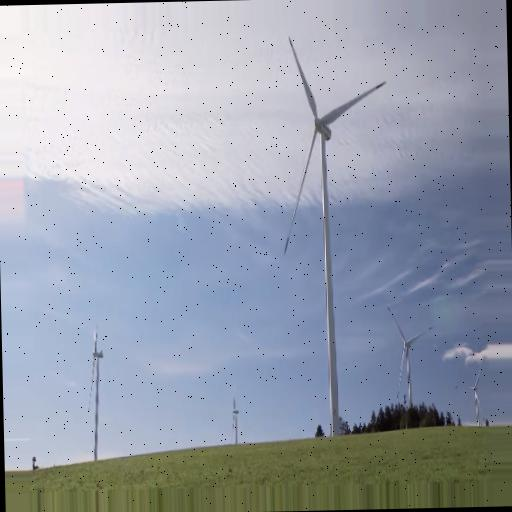wind turbine: (284, 36, 387, 436), (385, 305, 437, 413), (87, 327, 110, 464), (461, 365, 487, 427)
